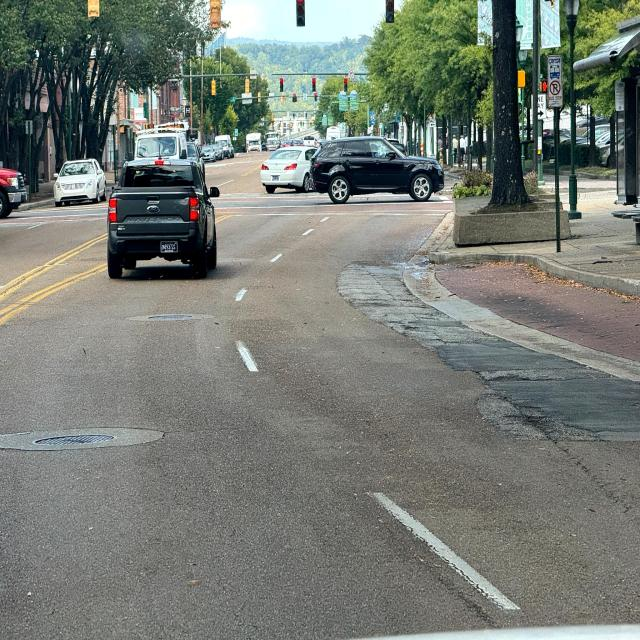pothole: (483, 393, 568, 445), (339, 246, 400, 315), (398, 319, 488, 350), (478, 362, 536, 390)
